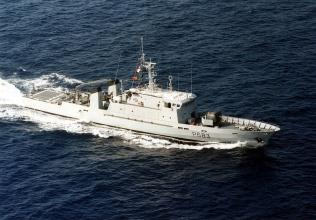warship: (21, 43, 285, 151)
